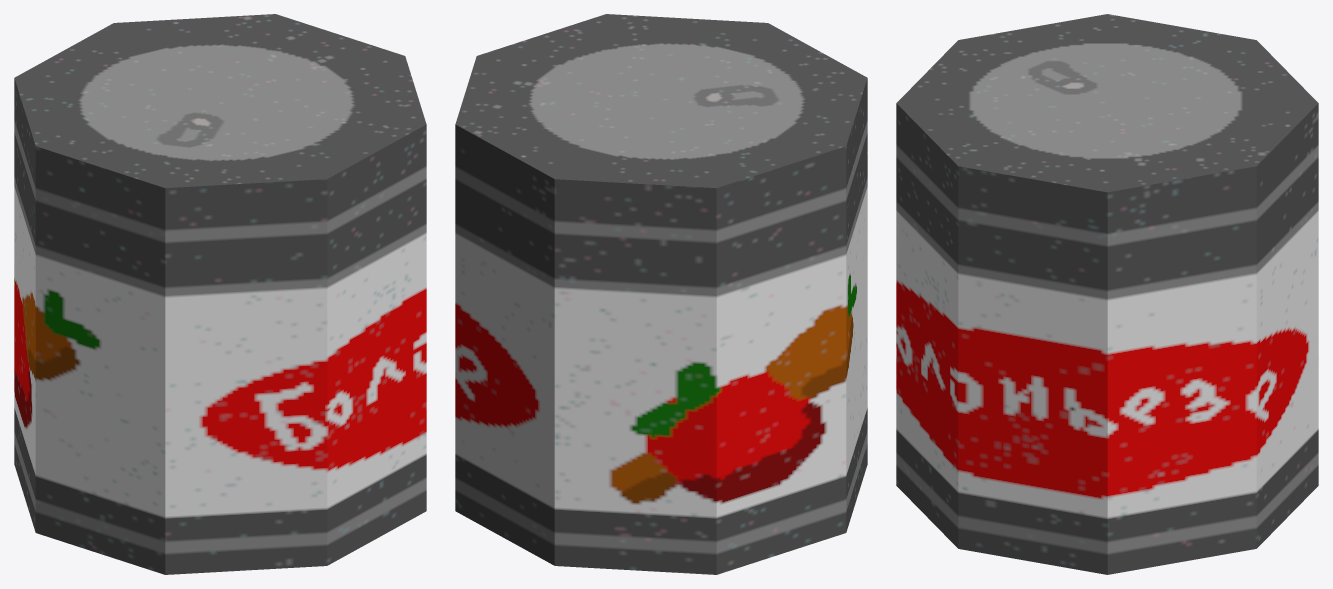
The model's file is sauce.glb.
The picture shows the model from 3 angles, left to right: view 1: azimuth 30°, elevation 25°; view 2: azimuth 150°, elevation 25°; view 3: azimuth 270°, elevation 25°; orthographic projection.
Visible parts, largest first — view 1: Cylinder; view 2: Cylinder; view 3: Cylinder.
Boxes of the visible parts, x1,y1,x2,y2 form: Cylinder: [14, 14, 426, 574]; Cylinder: [455, 14, 867, 574]; Cylinder: [896, 14, 1318, 574].
Size of the model in its own units: 0.3039 by 0.3039 by 0.3039.
1 material, 1 textured.
